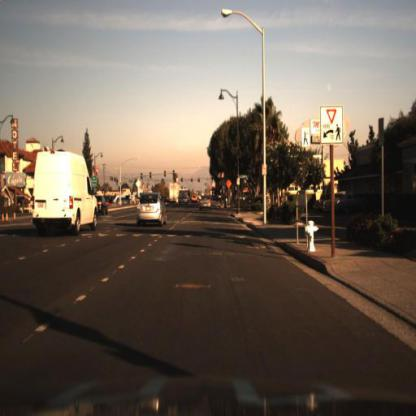car: (30, 151, 98, 236), (322, 186, 360, 216), (136, 194, 166, 228), (197, 190, 214, 214), (309, 192, 332, 208), (176, 190, 190, 210), (186, 192, 197, 212)
truck: (168, 180, 182, 204)
